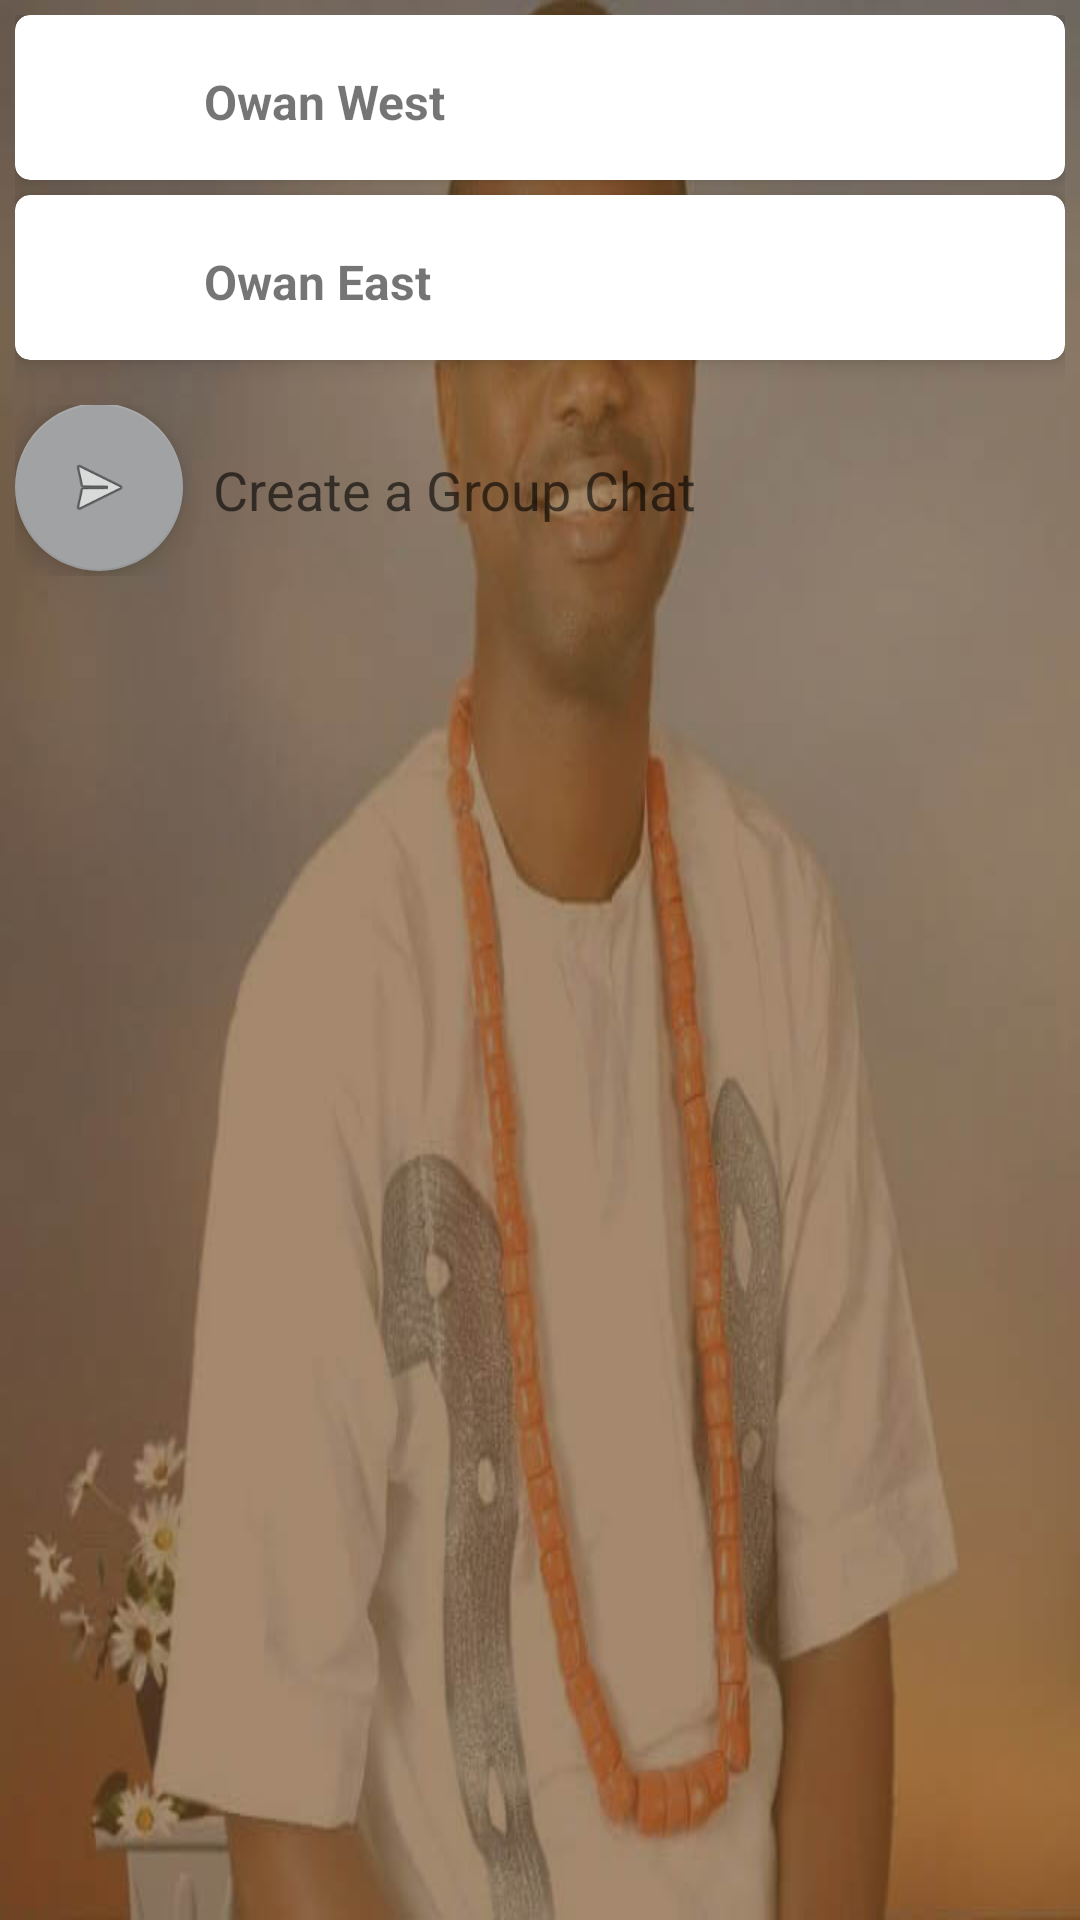

Screen size 1080px x 1920px. Icon name, then its box in pixels as (x1, y1, x2, y2):
send: (15, 405, 183, 571)
